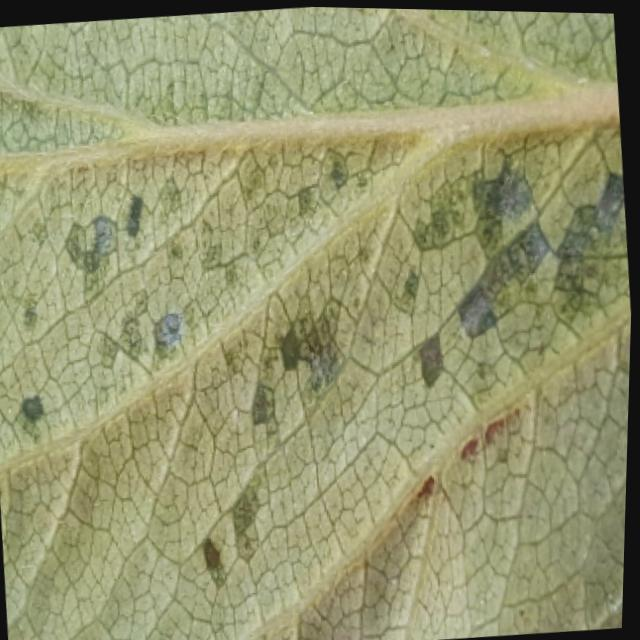Angular Leafspot: (0, 80, 632, 588)
